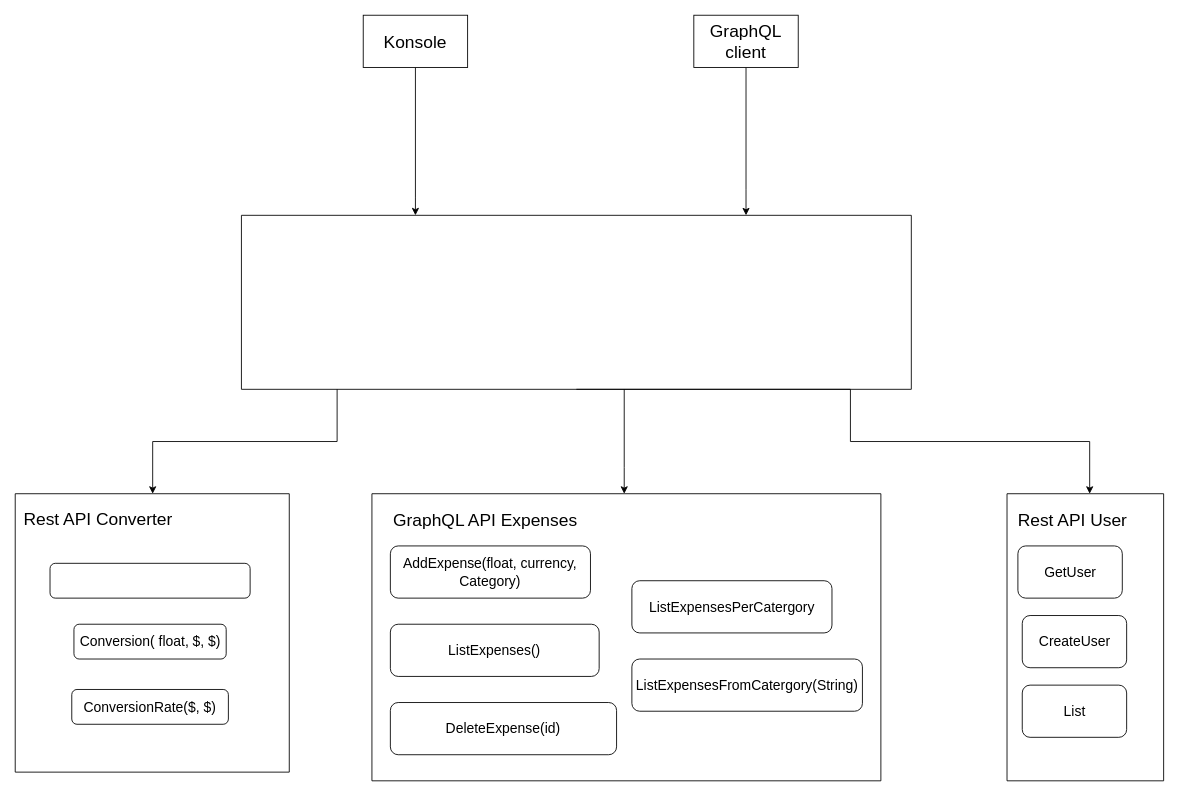
The diagram is 1179 pixels wide and 796 high, and some of its shapes have lost their labels. The box of each missing label's shape, as (x1, y1, x2, y2) in pixels:
API Gateway: (241, 214, 911, 389)
MultipleConvertion( float, $, $, $, $): (49, 562, 250, 598)
